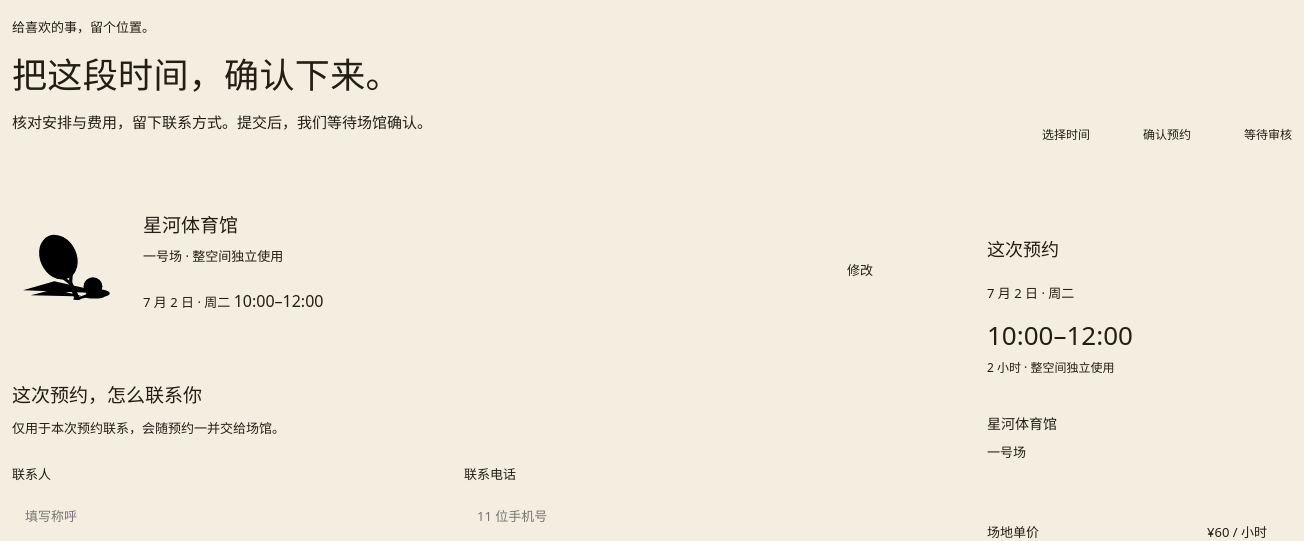
Test: ReservationConfirmView confirmation flow › keeps the coupon list honest when the coupon service fails
This screenshot has width=1304, height=541.
Type "王小明" into the field with test id "contact-name". click: (229, 516)
box: [12,493,446,539]
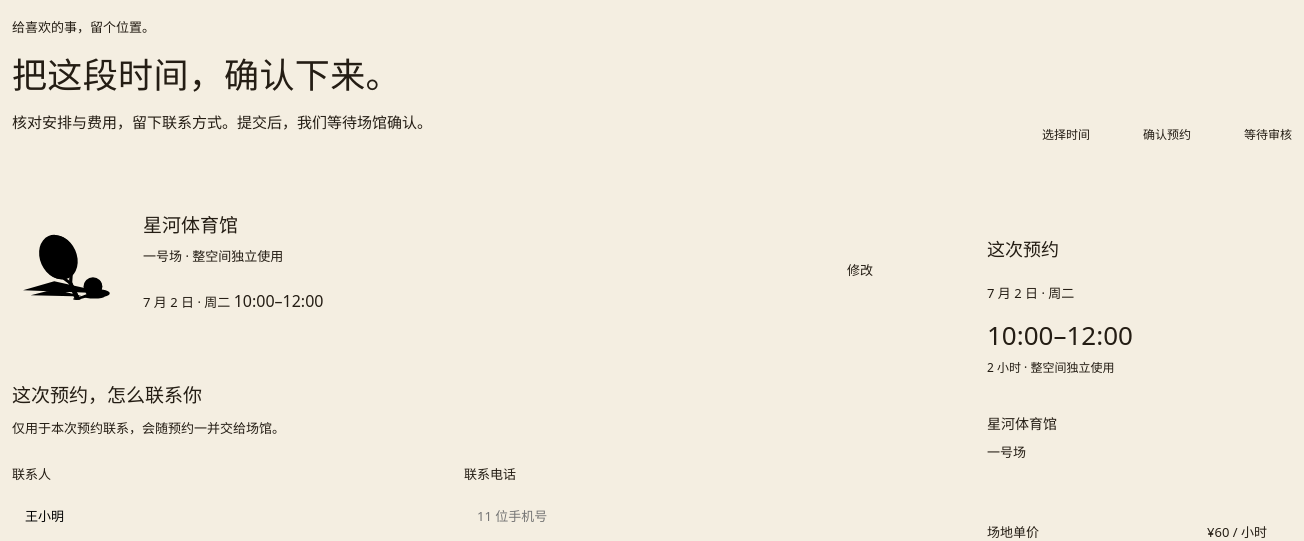
Type "13800000000" into the field with test id "contact-phone". click: (681, 516)
box: [464,493,898,539]
(page scrolled)
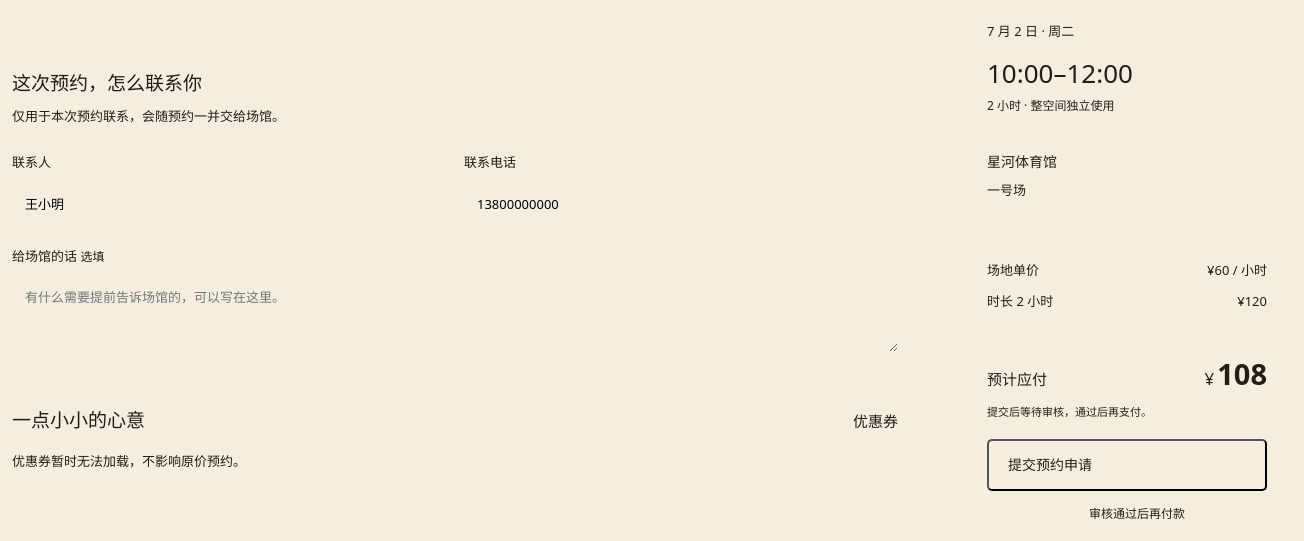
Now the element showing "¥108" is shown, box [1204,349,1267,398]
